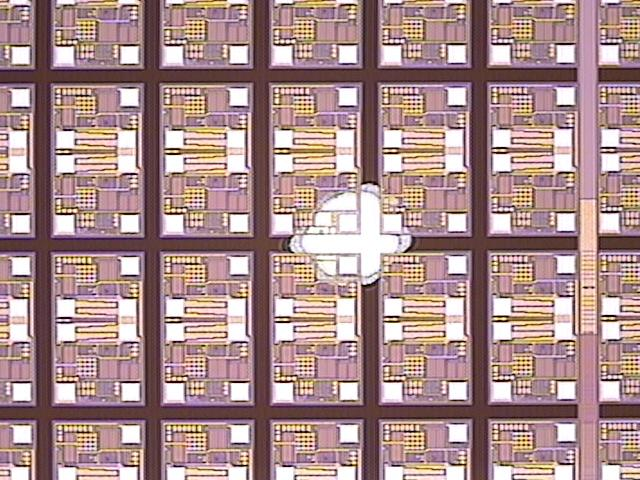BLOCK ETCH: (279, 178, 418, 291)
